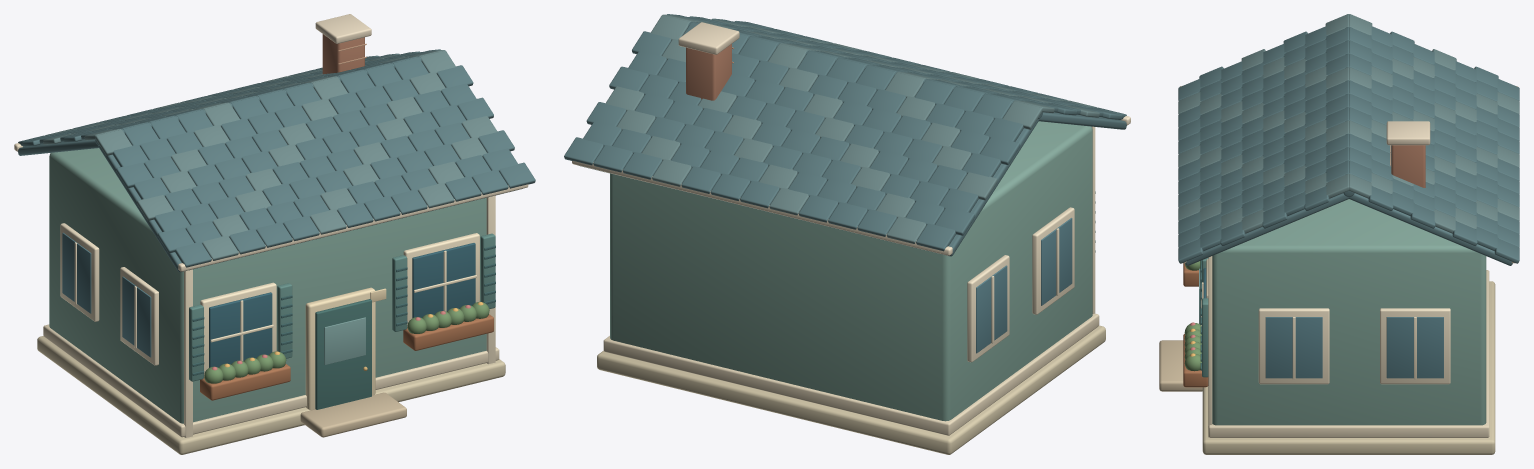
File: cottage.glb
3 renders of one model, left to right at view 1: azimuth 30°, elevation 25°; view 2: azimuth 150°, elevation 25°; view 3: azimuth 270°, elevation 25°, orthographic. The views are drawn at different scales.
Visible parts, largest first — view 1: Foundation; view 2: Foundation; view 3: Foundation.
Boxes of the visible parts, left/top/right/bottom form: Foundation: left=14, top=14, right=535, bottom=454; Foundation: left=564, top=14, right=1130, bottom=454; Foundation: left=1159, top=14, right=1519, bottom=454.
Size of the model in its own units: 9.12 by 7.15 by 7.88.
